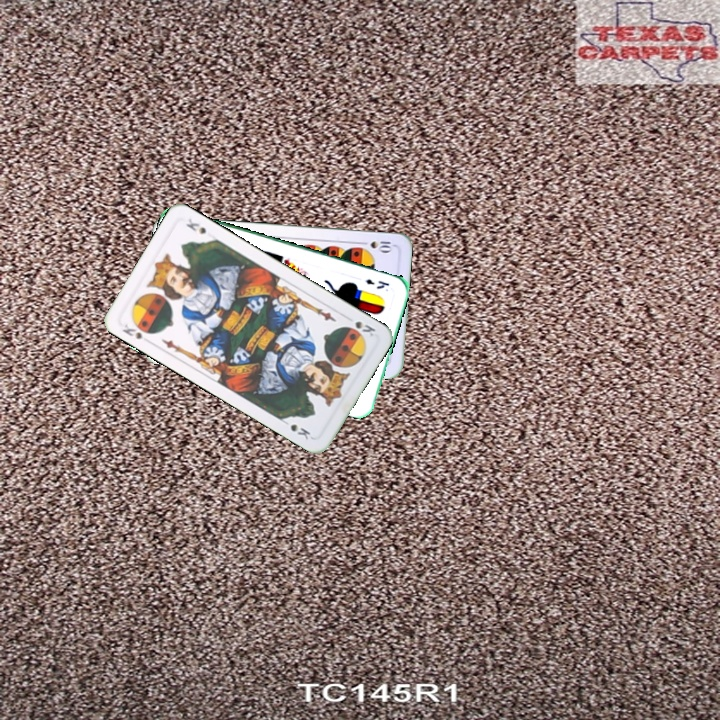EK: (361, 275, 392, 291)
S10: (356, 237, 394, 254)
SK: (118, 317, 156, 342), (344, 317, 378, 339)
